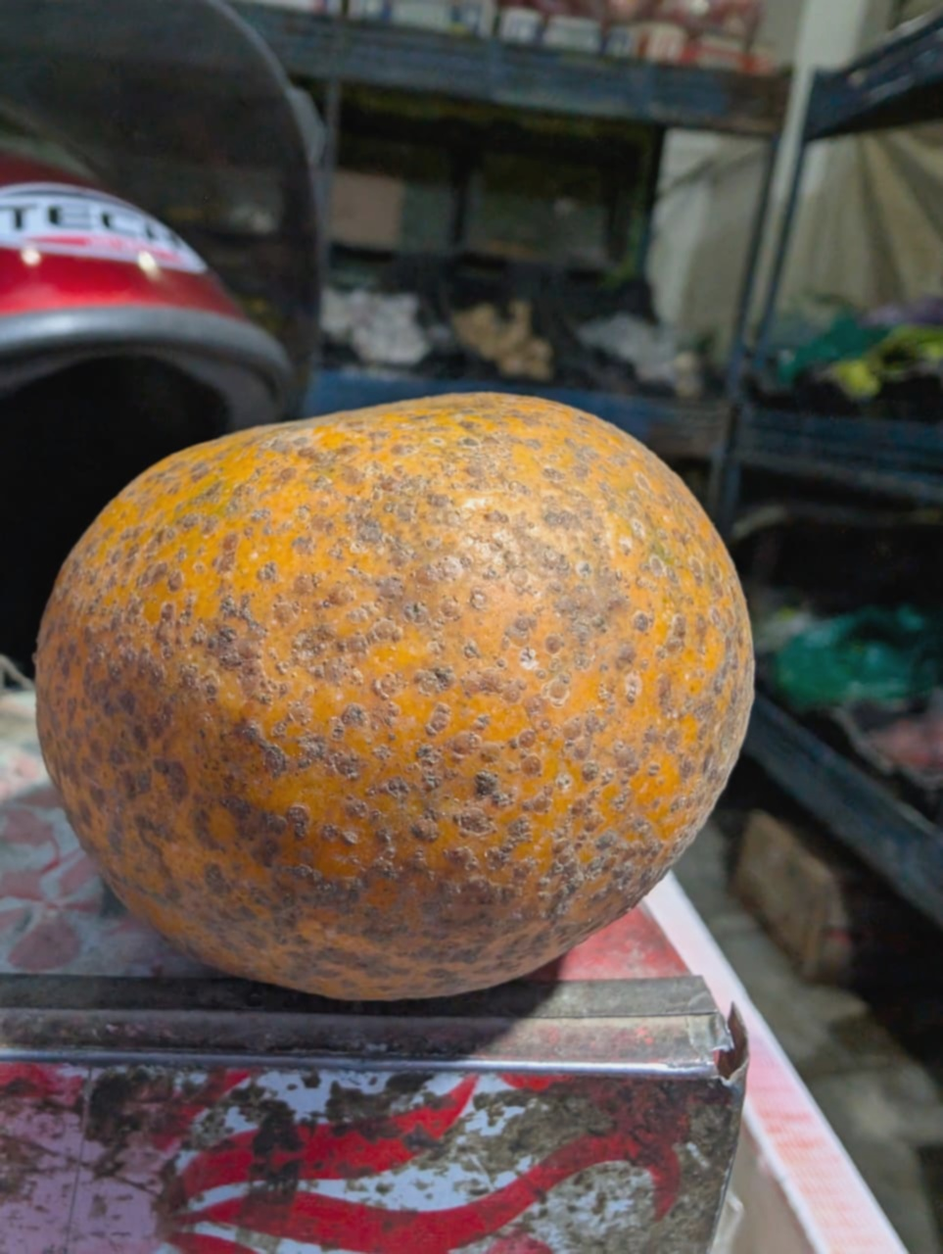orange: (54, 49, 790, 1029)
